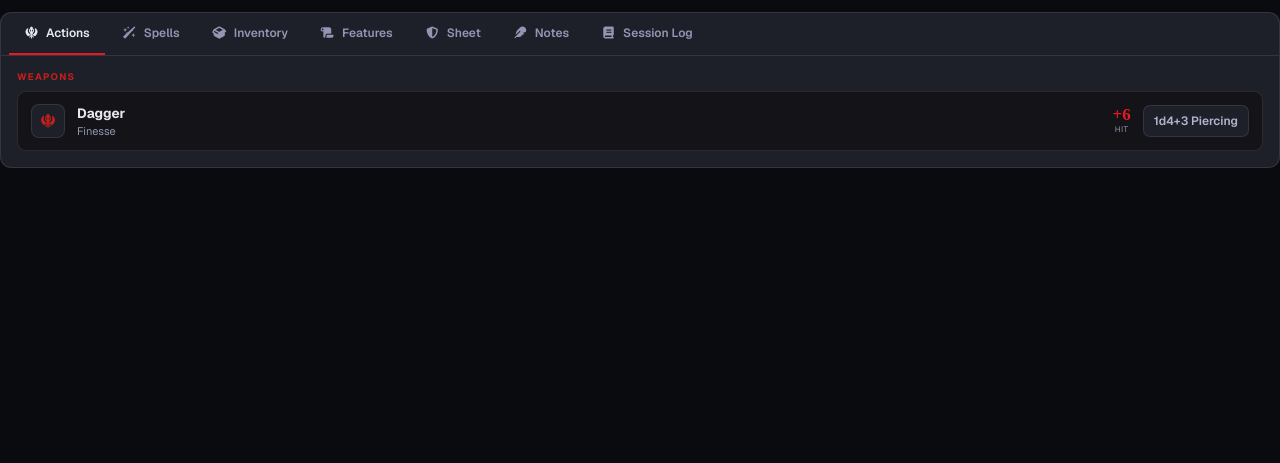
Test case: ContentTabs › filters inventory to utility gear via the Utility chip
The image size is (1280, 463).
Click the tab "Inventory": (250, 34) [197,13,303,55]
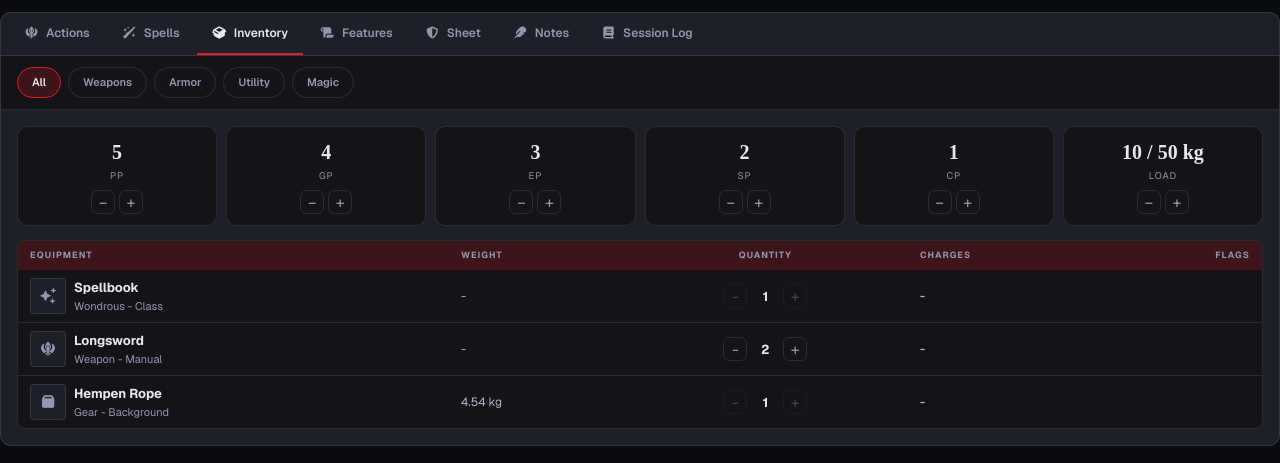
Click the button "Utility": (254, 82) [223,67,285,98]
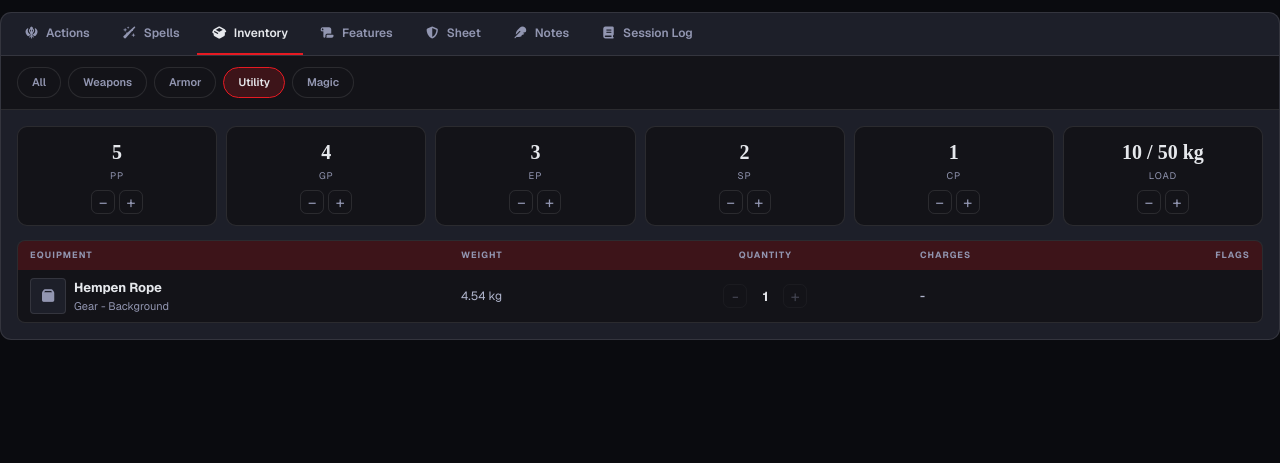
Result: the text "Hempen Rope" is shown at [74,278,169,298]
Result: the button "Longsword" is gone
Result: the button "Spellbook" is gone
